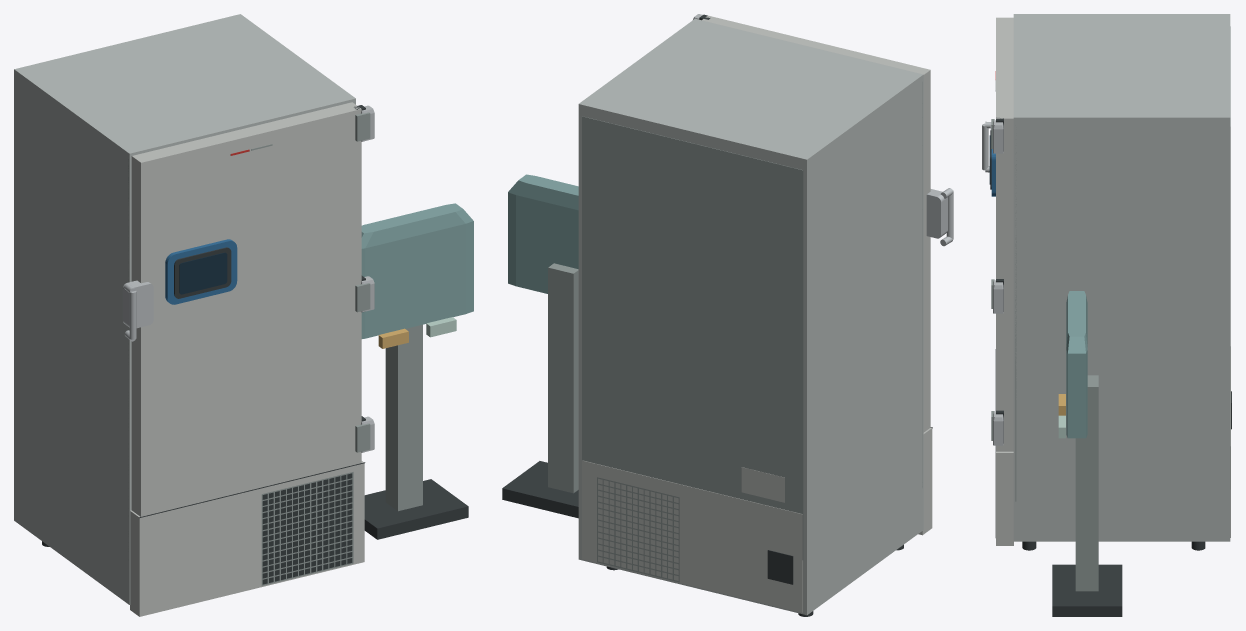
File: tsx60086a-documentary.glb
3 views of the same model, side by side, from view 1: azimuth 30°, elevation 25°; view 2: azimuth 150°, elevation 25°; view 3: azimuth 270°, elevation 25° (orthographic). The views are drawn at different scales.
Visible parts, largest first — view 1: Sealed_casing_box, Closed_insulated_door, Base_nominal_closed_front, Drawing_stand_frame, Front_right_cosmetic_grille_closed_backplate, Drawing_stand_support, Front_right_cosmetic_grille, Drawing_stand_base, Glass_no_status_or_settings, Blue_display_bezel, Static_left_latch_plate, Black_inactive_display_recess; view 2: Sealed_casing_box, Sealed_rear_sheet, Rear_lower_blank_panel, Drawing_stand_frame, Drawing_stand_support, Closed_insulated_door, Rear_left_cosmetic_grille, Drawing_stand_base, Rear_blank_identity_plate, Base_nominal_closed_front, Static_left_latch_plate, Rear_small_blank_service_cover; view 3: Sealed_casing_box, Closed_insulated_door, Drawing_stand_support, Drawing_stand_frame, Drawing_stand_base, Base_nominal_closed_front, Right_long_side_reveal, Sealed_rear_sheet, Fixed_right_hinge_1, Fixed_right_hinge_3, Fixed_right_hinge_2.
Part boxes in pixels (left/top/right/bottom): Sealed_casing_box: left=14, top=14, right=355, bottom=604; Closed_insulated_door: left=131, top=102, right=361, bottom=516; Base_nominal_closed_front: left=130, top=461, right=364, bottom=616; Drawing_stand_frame: left=361, top=203, right=473, bottom=338; Front_right_cosmetic_grille_closed_backplate: left=262, top=473, right=352, bottom=584; Drawing_stand_support: left=385, top=324, right=422, bottom=511; Front_right_cosmetic_grille: left=261, top=472, right=353, bottom=585; Drawing_stand_base: left=364, top=479, right=468, bottom=539; Glass_no_status_or_settings: left=179, top=252, right=227, bottom=294; Blue_display_bezel: left=165, top=239, right=237, bottom=304; Static_left_latch_plate: left=122, top=280, right=153, bottom=328; Black_inactive_display_recess: left=174, top=247, right=231, bottom=298; Sealed_casing_box: left=578, top=18, right=923, bottom=615; Sealed_rear_sheet: left=582, top=116, right=803, bottom=559; Rear_lower_blank_panel: left=582, top=460, right=802, bottom=612; Drawing_stand_frame: left=508, top=174, right=578, bottom=293; Drawing_stand_support: left=548, top=263, right=578, bottom=493; Closed_insulated_door: left=702, top=15, right=930, bottom=432; Rear_left_cosmetic_grille: left=597, top=477, right=679, bottom=582; Drawing_stand_base: left=502, top=461, right=578, bottom=518; Rear_blank_identity_plate: left=741, top=467, right=784, bottom=502; Base_nominal_closed_front: left=918, top=427, right=932, bottom=535; Static_left_latch_plate: left=926, top=189, right=947, bottom=238; Rear_small_blank_service_cover: left=767, top=550, right=793, bottom=584; Sealed_casing_box: left=1013, top=14, right=1230, bottom=541; Closed_insulated_door: left=996, top=17, right=1013, bottom=451; Drawing_stand_support: left=1075, top=375, right=1098, bottom=591; Drawing_stand_frame: left=1066, top=291, right=1087, bottom=438; Drawing_stand_base: left=1052, top=564, right=1122, bottom=616; Base_nominal_closed_front: left=996, top=451, right=1013, bottom=545; Right_long_side_reveal: left=1015, top=152, right=1016, bottom=501; Sealed_rear_sheet: left=1230, top=26, right=1230, bottom=489; Fixed_right_hinge_1: left=993, top=412, right=1003, bottom=445; Fixed_right_hinge_3: left=993, top=120, right=1003, bottom=153; Fixed_right_hinge_2: left=993, top=280, right=1003, bottom=313.
Size of the model in its own units: 1.72 by 1.98 by 1.02.
